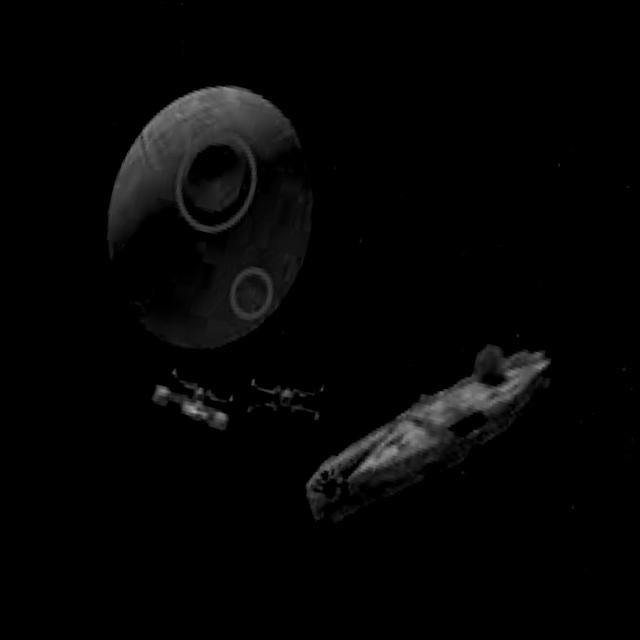death-stars: (102, 87, 313, 359)
